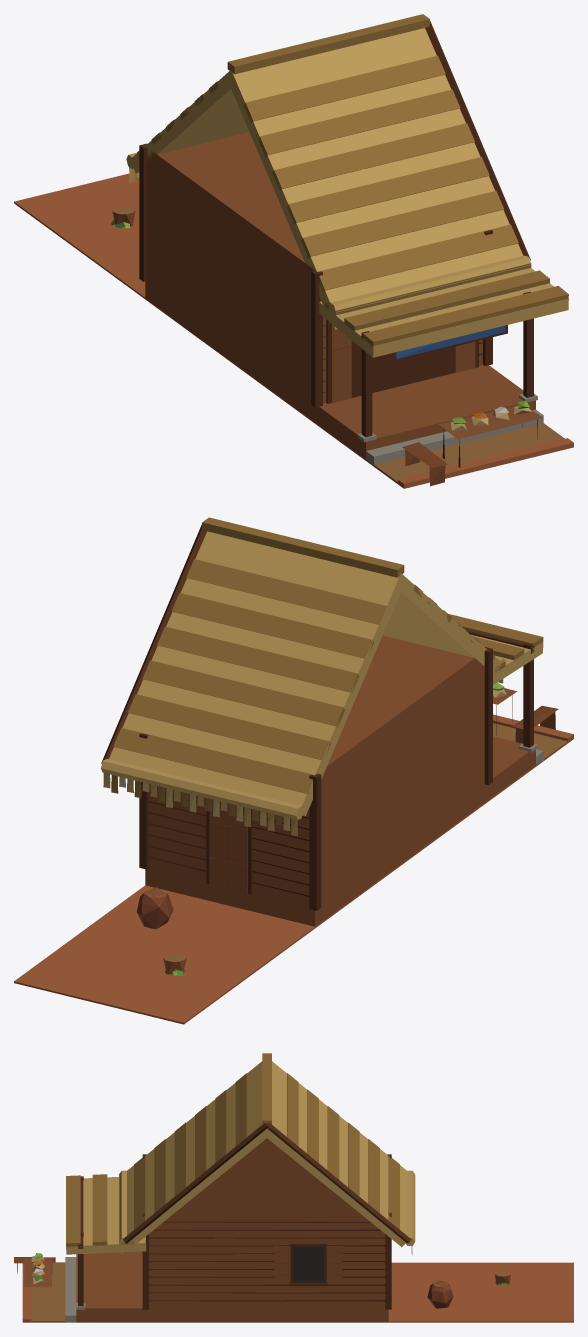
File: bay1_right.glb
3 views of the same model, one above another, from view 1: azimuth 30°, elevation 25°; view 2: azimuth 150°, elevation 25°; view 3: azimuth 270°, elevation 25° (orthographic). The views are drawn at different scales.
Visible parts, largest first — view 1: body; view 2: body; view 3: body, windows.
Boxes of the visible parts, x1=… form: body: x1=14, y1=14, x2=573, y2=488; body: x1=14, y1=517, x2=573, y2=1024; body: x1=14, y1=1053, x2=573, y2=1322; windows: x1=293, y1=1246, x2=324, y2=1281.
Size of the model in its own units: 4.78 by 6.99 by 16.15.
